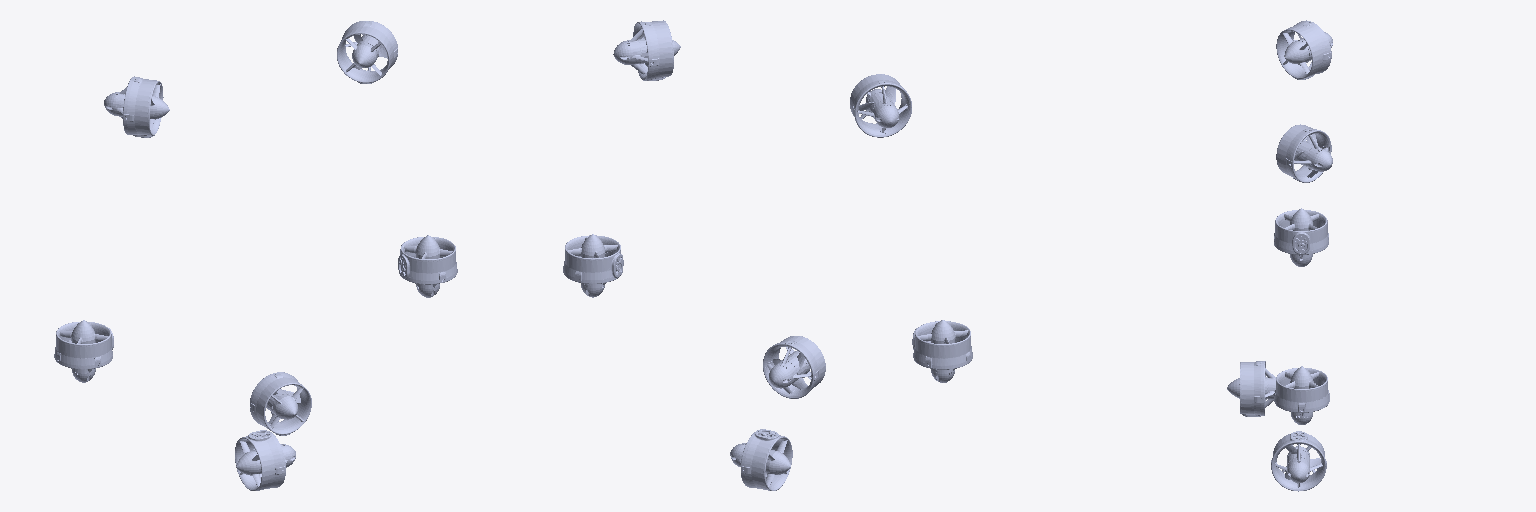
URDF robot description (steelhead_urdf):
<?xml version="1.0" encoding="utf-8"?>
<!-- This URDF was automatically created by SolidWorks to URDF Exporter! Originally created by [author] ([email redacted]) 
     Commit Version: 1.6.0-4-g7f85cfe  Build Version: 1.6.7995.38578
     For more information, please see http://wiki.ros.org/sw_urdf_exporter -->
<robot
  name="steelhead_urdf">
  <link
    name="base_link">
    <inertial>
      <origin
        xyz="0.00395046849323071 0.0499072286696635 -0.0102290259693298"
        rpy="0 0 0" />
      <mass
        value="11.2703688048829" />
      <inertia
        ixx="0.060252345626549"
        ixy="2.1256907295524E-06"
        ixz="-3.72440264216632E-06"
        iyy="0.111348207760062"
        iyz="0.00107999853531635"
        izz="0.127878964636527" />
    </inertial>
    <visual>
      <origin
        xyz="0 0 0"
        rpy="0 0 0" />
      <geometry>
        <mesh
          filename="package://steelhead_urdf/meshes/base_link.STL" />
      </geometry>
      <material
        name="">
        <color
          rgba="0.752941176470588 0.752941176470588 0.752941176470588 1" />
      </material>
    </visual>
    <collision>
      <origin
        xyz="0 0 0"
        rpy="0 0 0" />
      <geometry>
        <mesh
          filename="package://steelhead_urdf/meshes/base_link.STL" />
      </geometry>
    </collision>
  </link>
  <link
    name="thruster-1_link">
    <inertial>
      <origin
        xyz="-4.89081546103422E-07 -0.00413616182974776 0.000574355557575706"
        rpy="0 0 0" />
      <mass
        value="0.186902211484853" />
      <inertia
        ixx="0.000162753956656037"
        ixy="-2.92272870142361E-09"
        ixz="-1.85814585445412E-09"
        iyy="0.000180444513108018"
        iyz="-6.88949524169078E-07"
        izz="0.000158198380408318" />
    </inertial>
    <visual>
      <origin
        xyz="0 0 0"
        rpy="0 0 0" />
      <geometry>
        <mesh
          filename="package://steelhead_urdf/meshes/thruster-1_link.STL" />
      </geometry>
      <material
        name="">
        <color
          rgba="0.792156862745098 0.819607843137255 0.933333333333333 1" />
      </material>
    </visual>
    <collision>
      <origin
        xyz="0 0 0"
        rpy="0 0 0" />
      <geometry>
        <mesh
          filename="package://steelhead_urdf/meshes/thruster-1_link.STL" />
      </geometry>
    </collision>
  </link>
  <joint
    name="thruster-1_joint"
    type="fixed">
    <origin
      xyz="0.00026684981319 -0.084748516609538 -0.219431836509984"
      rpy="3.14159265358979 0 -0.0105672952385601" />
    <parent
      link="base_link" />
    <child
      link="thruster-1_link" />
    <axis
      xyz="0 0 0" />
  </joint>
  <link
    name="thruster-2_link">
    <inertial>
      <origin
        xyz="-4.338686397376E-07 -0.0041360510074997 0.000574375711597741"
        rpy="0 0 0" />
      <mass
        value="0.186899504815562" />
      <inertia
        ixx="0.0001627514234258"
        ixy="-2.82568504025534E-09"
        ixz="-1.68279041179492E-09"
        iyy="0.00018044157763586"
        iyz="-6.88855048599947E-07"
        izz="0.000158196991457279" />
    </inertial>
    <visual>
      <origin
        xyz="0 0 0"
        rpy="0 0 0" />
      <geometry>
        <mesh
          filename="package://steelhead_urdf/meshes/thruster-2_link.STL" />
      </geometry>
      <material
        name="">
        <color
          rgba="0.792156862745098 0.819607843137255 0.933333333333333 1" />
      </material>
    </visual>
    <collision>
      <origin
        xyz="0 0 0"
        rpy="0 0 0" />
      <geometry>
        <mesh
          filename="package://steelhead_urdf/meshes/thruster-2_link.STL" />
      </geometry>
    </collision>
  </link>
  <joint
    name="thruster-2_joint"
    type="fixed">
    <origin
      xyz="-0.210503109396221 0.00386607192717902 0.332368163490018"
      rpy="3.14159265358979 0 0.785066673557305" />
    <parent
      link="base_link" />
    <child
      link="thruster-2_link" />
    <axis
      xyz="0 0 0" />
  </joint>
  <link
    name="thruster-3_link">
    <inertial>
      <origin
        xyz="-4.33848231506939E-07 -0.00413605099529665 0.000574375715362785"
        rpy="0 0 0" />
      <mass
        value="0.186899504873199" />
      <inertia
        ixx="0.000162751425676453"
        ixy="-2.82797964763055E-09"
        ixz="-1.68281476856945E-09"
        iyy="0.000180441578299036"
        iyz="-6.88854971106012E-07"
        izz="0.000158196994569752" />
    </inertial>
    <visual>
      <origin
        xyz="0 0 0"
        rpy="0 0 0" />
      <geometry>
        <mesh
          filename="package://steelhead_urdf/meshes/thruster-3_link.STL" />
      </geometry>
      <material
        name="">
        <color
          rgba="0.792156862745098 0.819607843137255 0.933333333333333 1" />
      </material>
    </visual>
    <collision>
      <origin
        xyz="0 0 0"
        rpy="0 0 0" />
      <geometry>
        <mesh
          filename="package://steelhead_urdf/meshes/thruster-3_link.STL" />
      </geometry>
    </collision>
  </link>
  <joint
    name="thruster-3_joint"
    type="fixed">
    <origin
      xyz="0.213276402010404 0.00372559331954102 0.332368163490019"
      rpy="3.14159265358979 0 -0.785729653237593" />
    <parent
      link="base_link" />
    <child
      link="thruster-3_link" />
    <axis
      xyz="0 0 0" />
  </joint>
  <link
    name="thruster_4_link">
    <inertial>
      <origin
        xyz="-4.8478E-07 0.0041362 -0.00057436"
        rpy="0 0 0" />
      <mass
        value="0.1869" />
      <inertia
        ixx="0.00016275"
        ixy="2.9228E-09"
        ixz="1.8618E-09"
        iyy="0.00018044"
        iyz="-6.8894E-07"
        izz="0.0001582" />
    </inertial>
    <visual>
      <origin
        xyz="0 0 0"
        rpy="0 0 0" />
      <geometry>
        <mesh
          filename="package://steelhead_urdf/meshes/thruster_4_link.STL" />
      </geometry>
      <material
        name="">
        <color
          rgba="0.79216 0.81961 0.93333 1" />
      </material>
    </visual>
    <collision>
      <origin
        xyz="0 0 0"
        rpy="0 0 0" />
      <geometry>
        <mesh
          filename="package://steelhead_urdf/meshes/thruster_4_link.STL" />
      </geometry>
    </collision>
  </link>
  <joint
    name="thruster_4_joint"
    type="fixed">
    <origin
      xyz="0.3284 0.00096401 -0.07017"
      rpy="-1.5708 0 -1.5708" />
    <parent
      link="base_link" />
    <child
      link="thruster_4_link" />
    <axis
      xyz="0 0 0" />
  </joint>
  <link
    name="thruster_5_link">
    <inertial>
      <origin
        xyz="-4.8478E-07 -0.0041362 0.00057436"
        rpy="0 0 0" />
      <mass
        value="0.1869" />
      <inertia
        ixx="0.00016275"
        ixy="-2.9218E-09"
        ixz="-1.8618E-09"
        iyy="0.00018044"
        iyz="-6.8894E-07"
        izz="0.0001582" />
    </inertial>
    <visual>
      <origin
        xyz="0 0 0"
        rpy="0 0 0" />
      <geometry>
        <mesh
          filename="package://steelhead_urdf/meshes/thruster_5_link.STL" />
      </geometry>
      <material
        name="">
        <color
          rgba="0.79216 0.81961 0.93333 1" />
      </material>
    </visual>
    <collision>
      <origin
        xyz="0 0 0"
        rpy="0 0 0" />
      <geometry>
        <mesh
          filename="package://steelhead_urdf/meshes/thruster_5_link.STL" />
      </geometry>
    </collision>
  </link>
  <joint
    name="thruster_5_joint"
    type="fixed">
    <origin
      xyz="-0.32565 0 -0.071134"
      rpy="1.5708 0 1.5708" />
    <parent
      link="base_link" />
    <child
      link="thruster_5_link" />
    <axis
      xyz="0 0 0" />
  </joint>
  <link
    name="thruster-6_link">
    <inertial>
      <origin
        xyz="-4.8478E-07 0.0041362 -0.00057436"
        rpy="0 0 0" />
      <mass
        value="0.1869" />
      <inertia
        ixx="0.00016275"
        ixy="2.9229E-09"
        ixz="1.8617E-09"
        iyy="0.00018044"
        iyz="-6.8894E-07"
        izz="0.0001582" />
    </inertial>
    <visual>
      <origin
        xyz="0 0 0"
        rpy="0 0 0" />
      <geometry>
        <mesh
          filename="package://steelhead_urdf/meshes/thruster-6_link.STL" />
      </geometry>
      <material
        name="">
        <color
          rgba="0.79216 0.81961 0.93333 1" />
      </material>
    </visual>
    <collision>
      <origin
        xyz="0 0 0"
        rpy="0 0 0" />
      <geometry>
        <mesh
          filename="package://steelhead_urdf/meshes/thruster-6_link.STL" />
      </geometry>
    </collision>
  </link>
  <joint
    name="thruster-6_joint"
    type="fixed">
    <origin
      xyz="0.0063667 -0.0045 -0.35743"
      rpy="3.1416 0 1.5708" />
    <parent
      link="base_link" />
    <child
      link="thruster-6_link" />
    <axis
      xyz="0 0 0" />
  </joint>
</robot>

--- What the picture shows (computed from the rendered views, not written in the file) ---
The picture shows the robot from 3 angles, left to right: view 1: azimuth 30°, elevation 25°; view 2: azimuth 150°, elevation 25°; view 3: azimuth 270°, elevation 25°; orthographic projection.
Model steelhead_urdf with 7 links and 6 joints (6 fixed), rooted at base_link, posed every joint at zero.
Visible links, largest first — view 1: thruster-1_link, thruster-6_link, thruster_5_link, thruster_4_link, thruster-3_link, thruster-2_link; view 2: thruster-1_link, thruster-2_link, thruster-6_link, thruster_5_link, thruster_4_link, thruster-3_link; view 3: thruster-2_link, thruster-3_link, thruster_5_link, thruster_4_link, thruster-6_link, thruster-1_link.
Boxes of the visible links, x1,y1,x2,y2 form: thruster-1_link: [250, 372, 311, 435]; thruster-6_link: [235, 430, 295, 490]; thruster_5_link: [54, 320, 113, 382]; thruster_4_link: [398, 235, 457, 297]; thruster-3_link: [337, 21, 397, 83]; thruster-2_link: [104, 76, 169, 137]; thruster-1_link: [763, 336, 825, 398]; thruster-2_link: [850, 74, 911, 137]; thruster-6_link: [730, 429, 792, 490]; thruster_5_link: [912, 320, 972, 382]; thruster_4_link: [563, 234, 623, 297]; thruster-3_link: [613, 20, 680, 80]; thruster-2_link: [1276, 20, 1332, 79]; thruster-3_link: [1276, 124, 1332, 182]; thruster_5_link: [1274, 208, 1328, 266]; thruster_4_link: [1274, 366, 1329, 424]; thruster-6_link: [1271, 431, 1326, 491]; thruster-1_link: [1227, 361, 1275, 416].
Size in the robot's own frame: 0.7506 by 0.1853 by 0.7864 metres.
Meshes: 7 distinct files referenced, 6 mesh visuals loaded (6 binary STL); not drawn: 1 (reference not matched to a file when rendering).